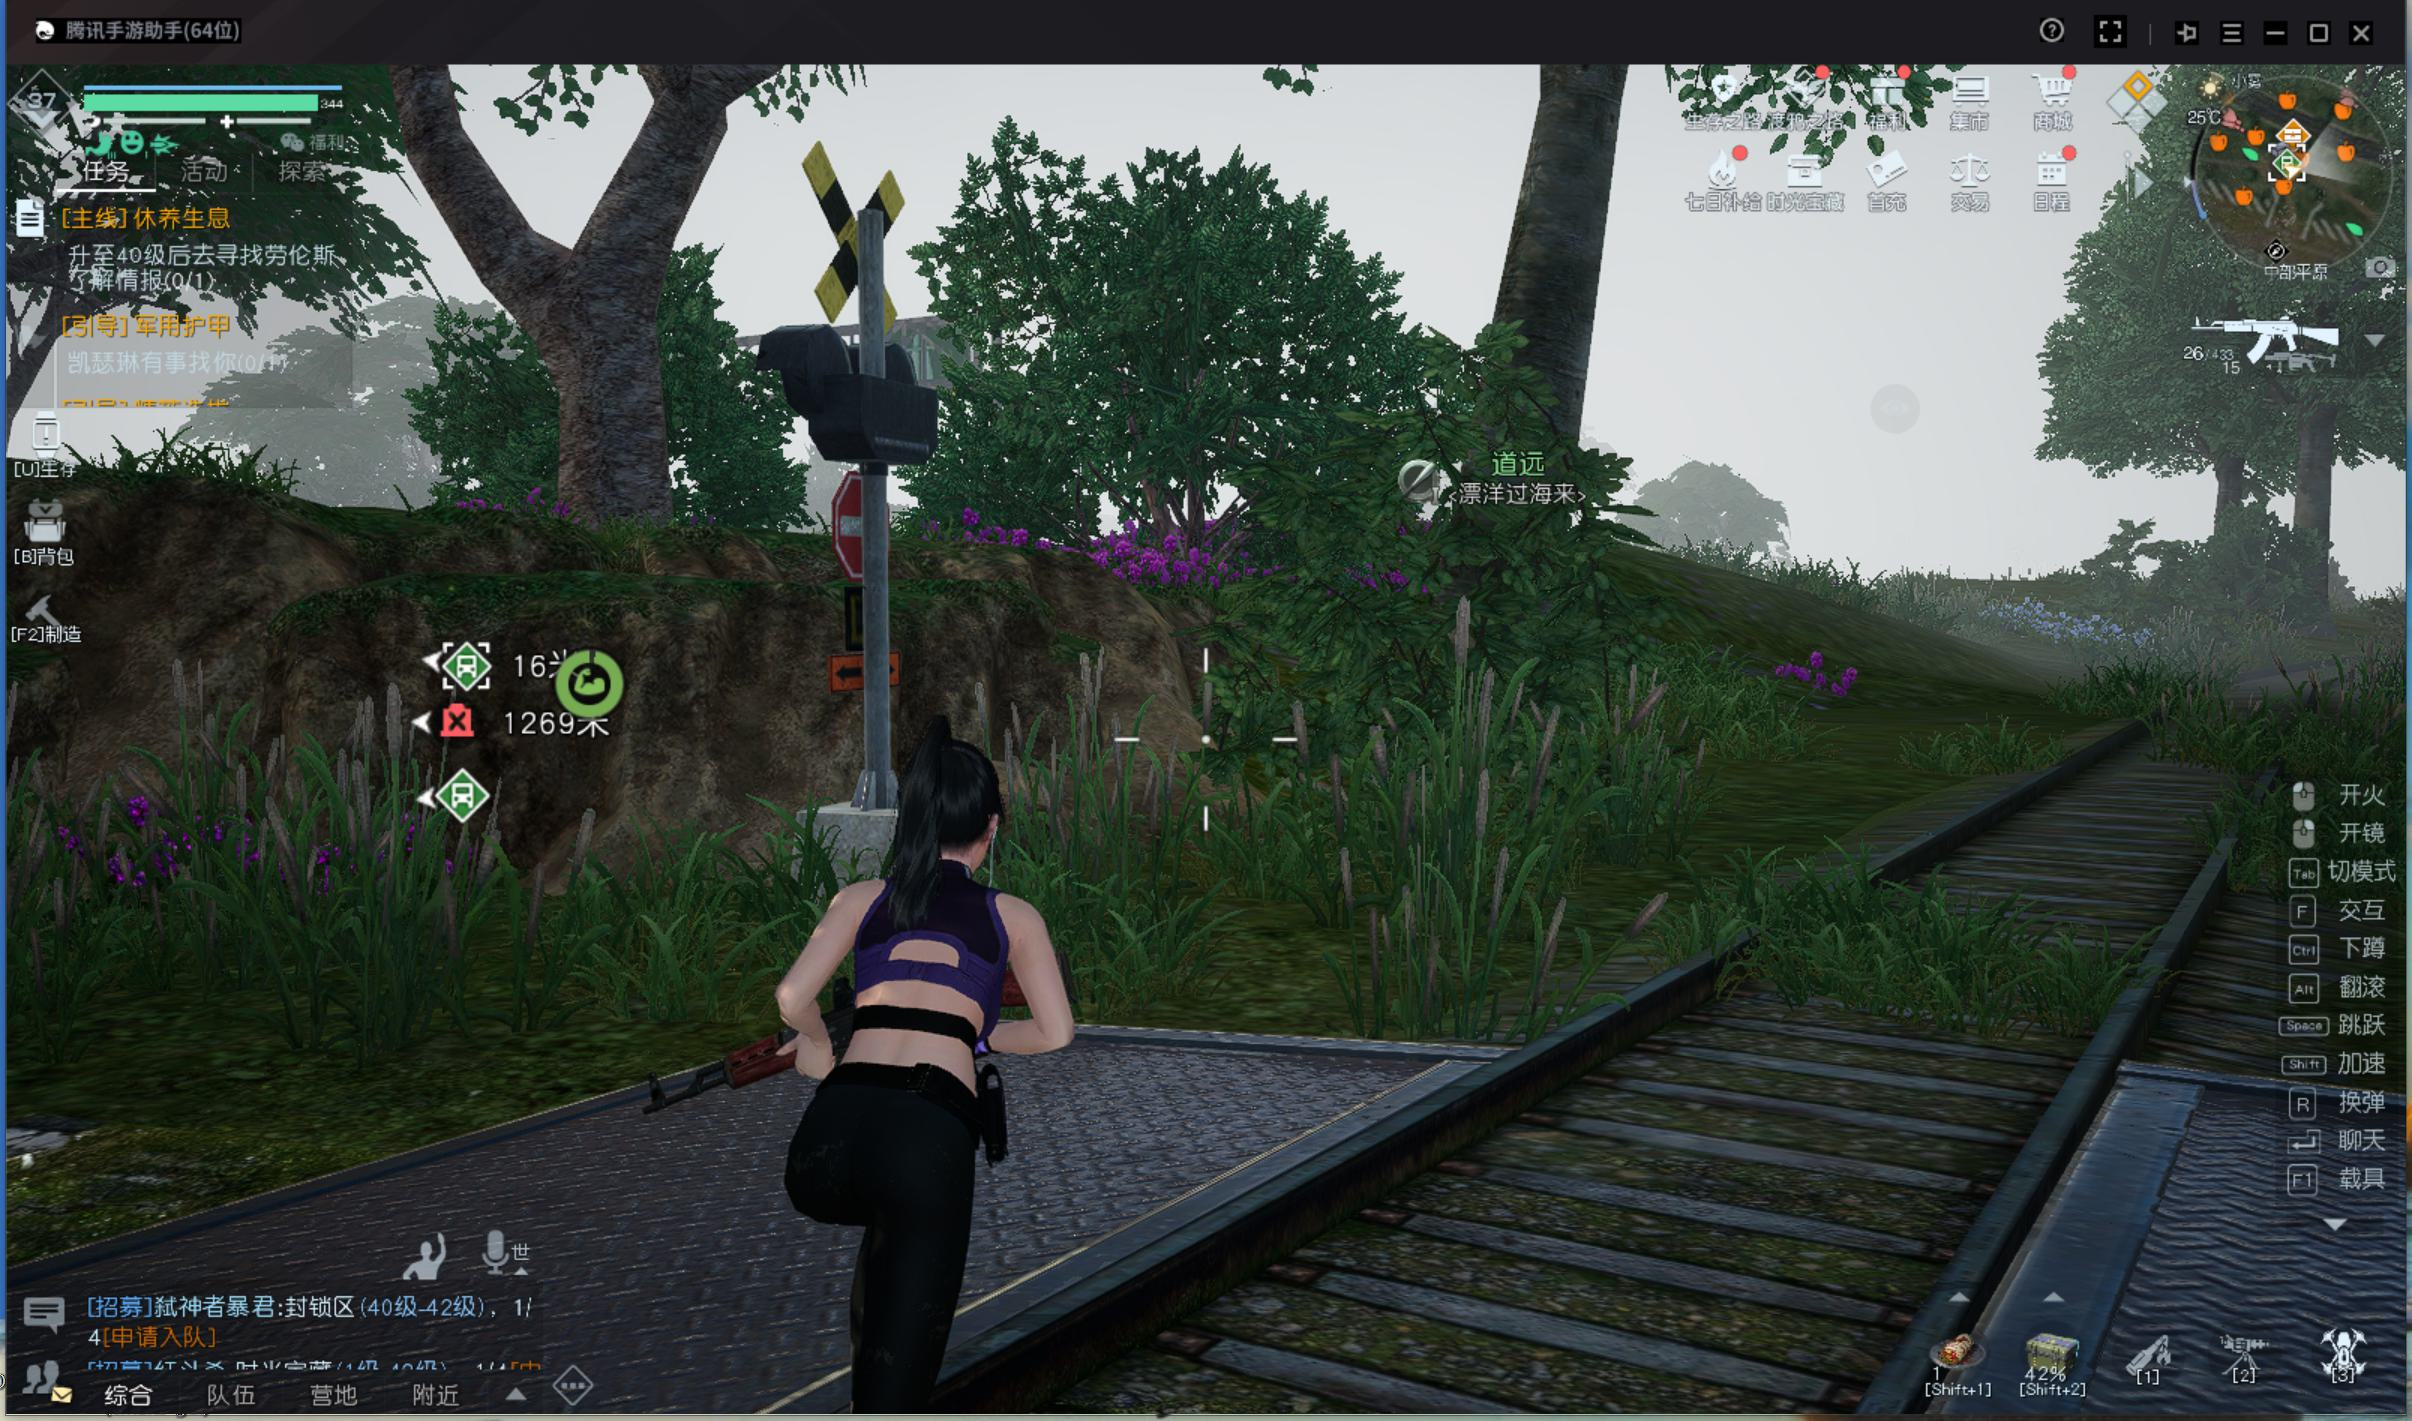tree: (1456, 108, 1609, 536), (523, 310, 702, 548), (2282, 436, 2351, 631)
